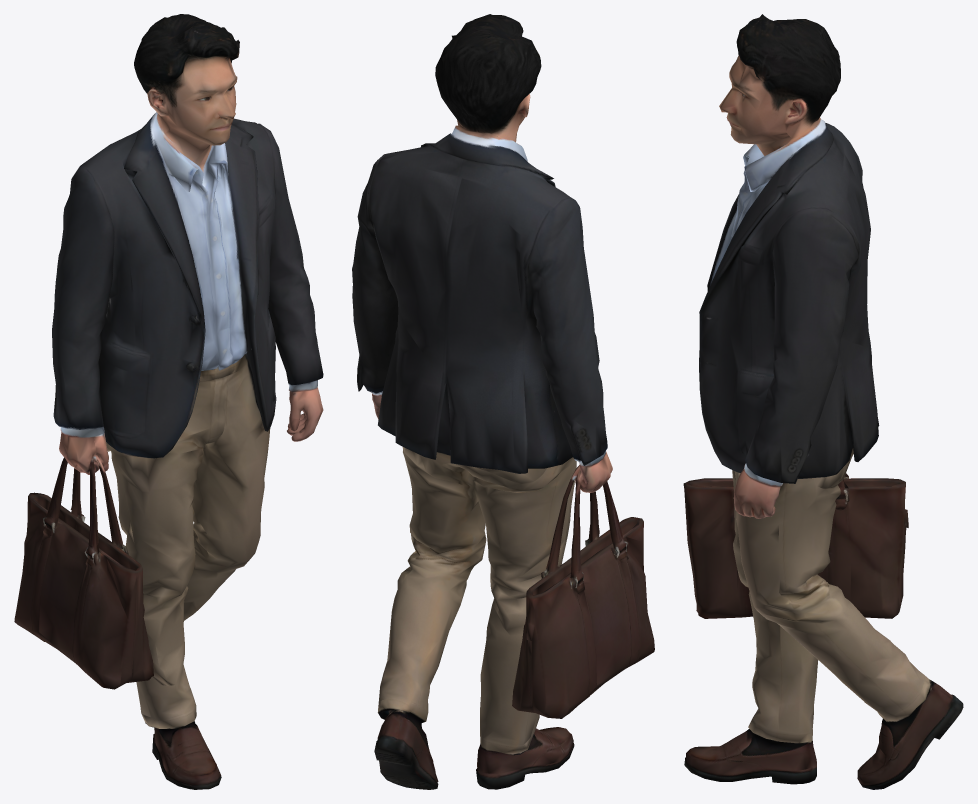
File: JPGV01_M02_L10k.glb
3 views of the same model, side by side, from view 1: azimuth 30°, elevation 25°; view 2: azimuth 150°, elevation 25°; view 3: azimuth 270°, elevation 25° (orthographic). The views are drawn at different scales.
Visible parts, largest first — view 1: JPGV01_M02_L10k; view 2: JPGV01_M02_L10k; view 3: JPGV01_M02_L10k.
Part boxes in pixels (x1=…): JPGV01_M02_L10k: x1=14, y1=14, x2=323, y2=789; JPGV01_M02_L10k: x1=352, y1=14, x2=654, y2=789; JPGV01_M02_L10k: x1=683, y1=14, x2=963, y2=789.
Bounding box in the file's own units: 0.6526 × 1.8 × 0.5983.
Materials: 1 (1 with a texture image).
